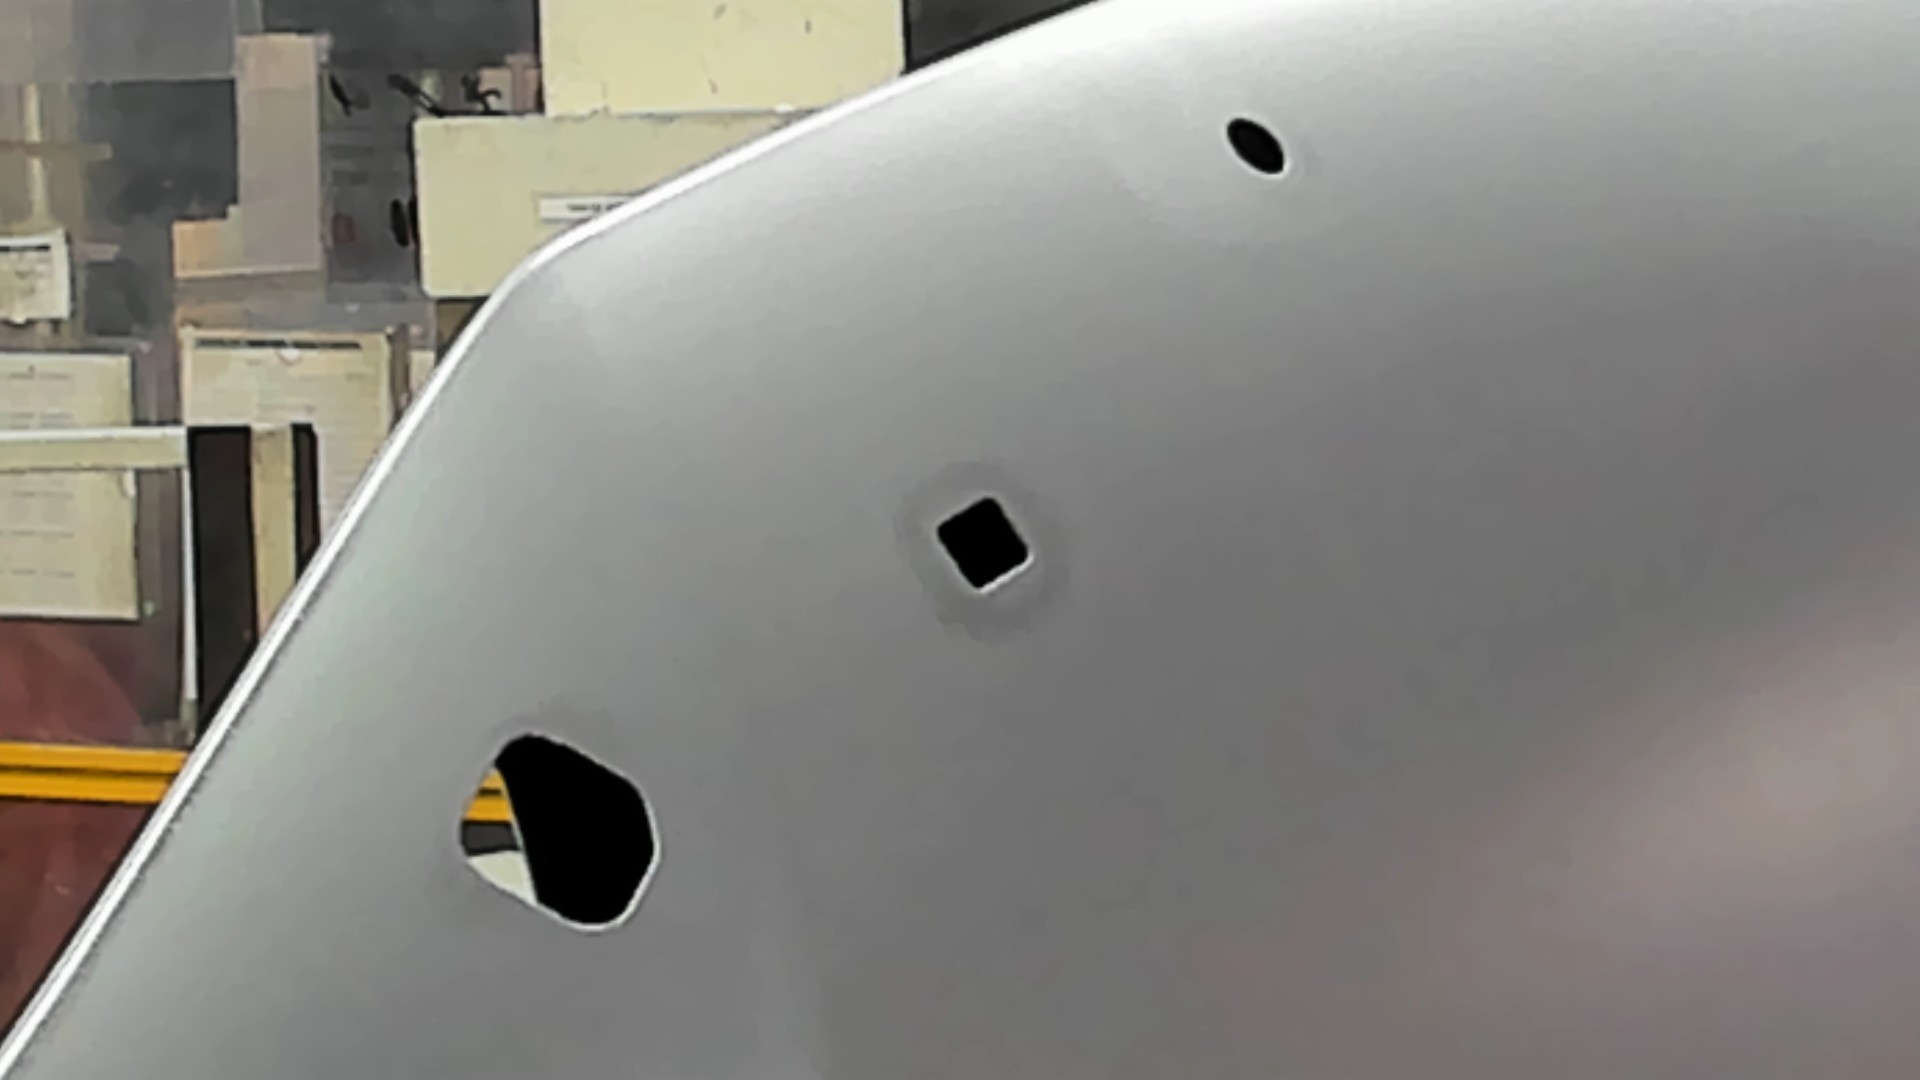capo: (1042, 183, 1920, 1080)
chico: (1224, 111, 1292, 183)
grande: (446, 729, 669, 945)
mediano: (924, 487, 1042, 604)
